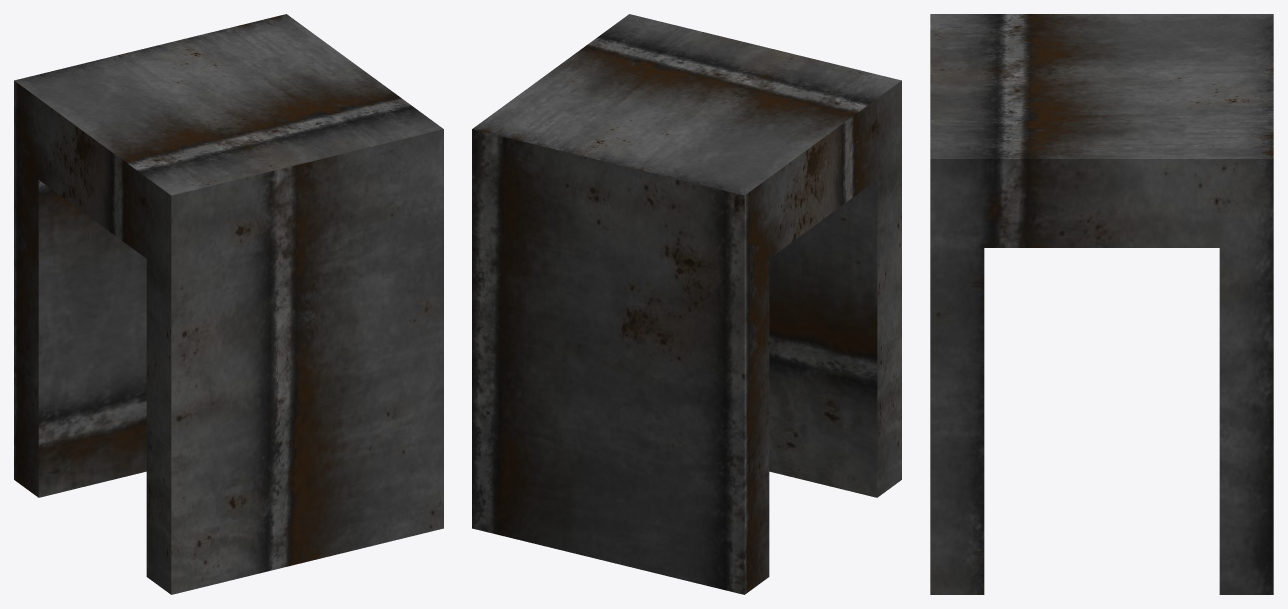
File: connector.obj
3 renders of one model, left to right at view 1: azimuth 30°, elevation 25°; view 2: azimuth 150°, elevation 25°; view 3: azimuth 270°, elevation 25°, orthographic. The views are drawn at different scales.
Parts seen in each view (by area): view 1: Cube.004; view 2: Cube.004; view 3: Cube.004.
Boxes of the visible parts, bbox=[...] form: Cube.004: bbox=[14, 14, 443, 594]; Cube.004: bbox=[472, 14, 901, 594]; Cube.004: bbox=[930, 14, 1273, 594].
Bounding box in the file's own units: 1 × 1.4 × 1.
Materials: 1 (1 with a texture image).
